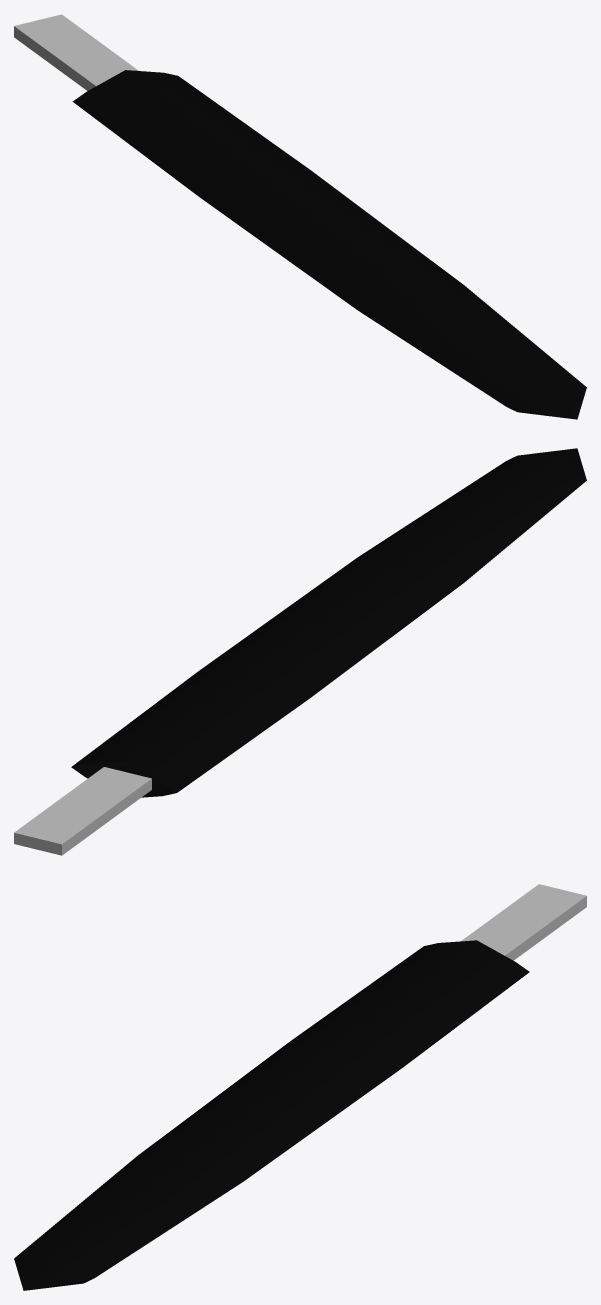
The model's file is FinSword_Source.fbx.
3 views of the same model, one above another, from view 1: azimuth 30°, elevation 25°; view 2: azimuth 150°, elevation 25°; view 3: azimuth 330°, elevation 25° (orthographic).
Parts seen in each view (by area): view 1: pCube1; view 2: pCube1; view 3: pCube1.
Boxes of the visible parts, x1,y1,x2,y2 form: pCube1: (14,14,586,419); pCube1: (14,448,586,855); pCube1: (14,884,586,1290).
Size of the model in its own units: 6.89 by 2.22 by 57.8.
